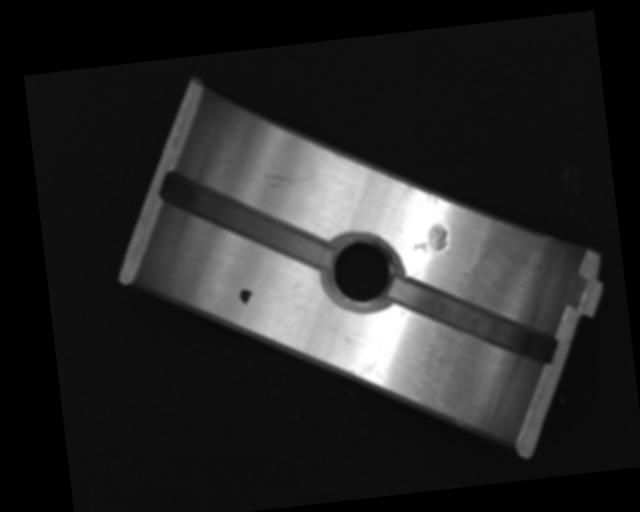blot: (238, 287, 254, 306)
bruise: (409, 222, 450, 255)
gap: (160, 155, 331, 286), (389, 263, 556, 379)
hole: (323, 229, 403, 316)
nick: (263, 166, 316, 190)
